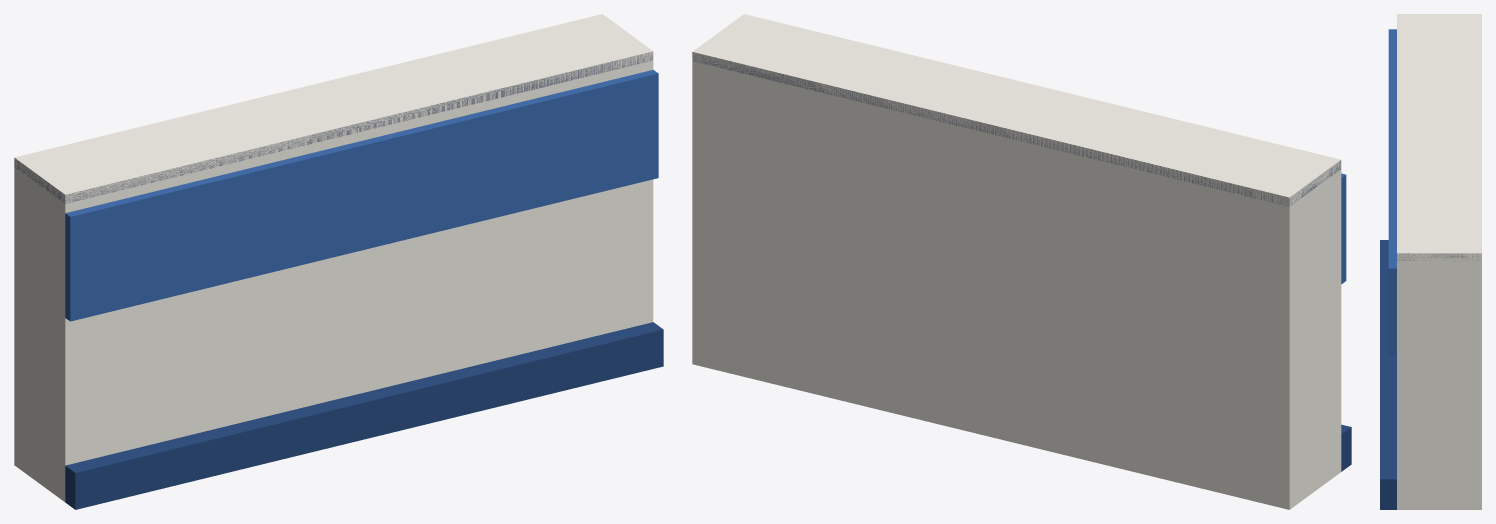
The model's file is wall.glb.
3 renders of one model, left to right at view 1: azimuth 30°, elevation 25°; view 2: azimuth 150°, elevation 25°; view 3: azimuth 270°, elevation 25°, orthographic. The views are drawn at different scales.
Visible parts, largest first — view 1: wall; view 2: wall; view 3: wall.
Part boxes in pixels (x1=…): wall: x1=14, y1=14, x2=663, y2=509; wall: x1=692, y1=14, x2=1351, y2=509; wall: x1=1380, y1=14, x2=1481, y2=509.
Bounding box in the file's own units: 1 × 0.5 × 0.18.
1 material, 1 textured.
